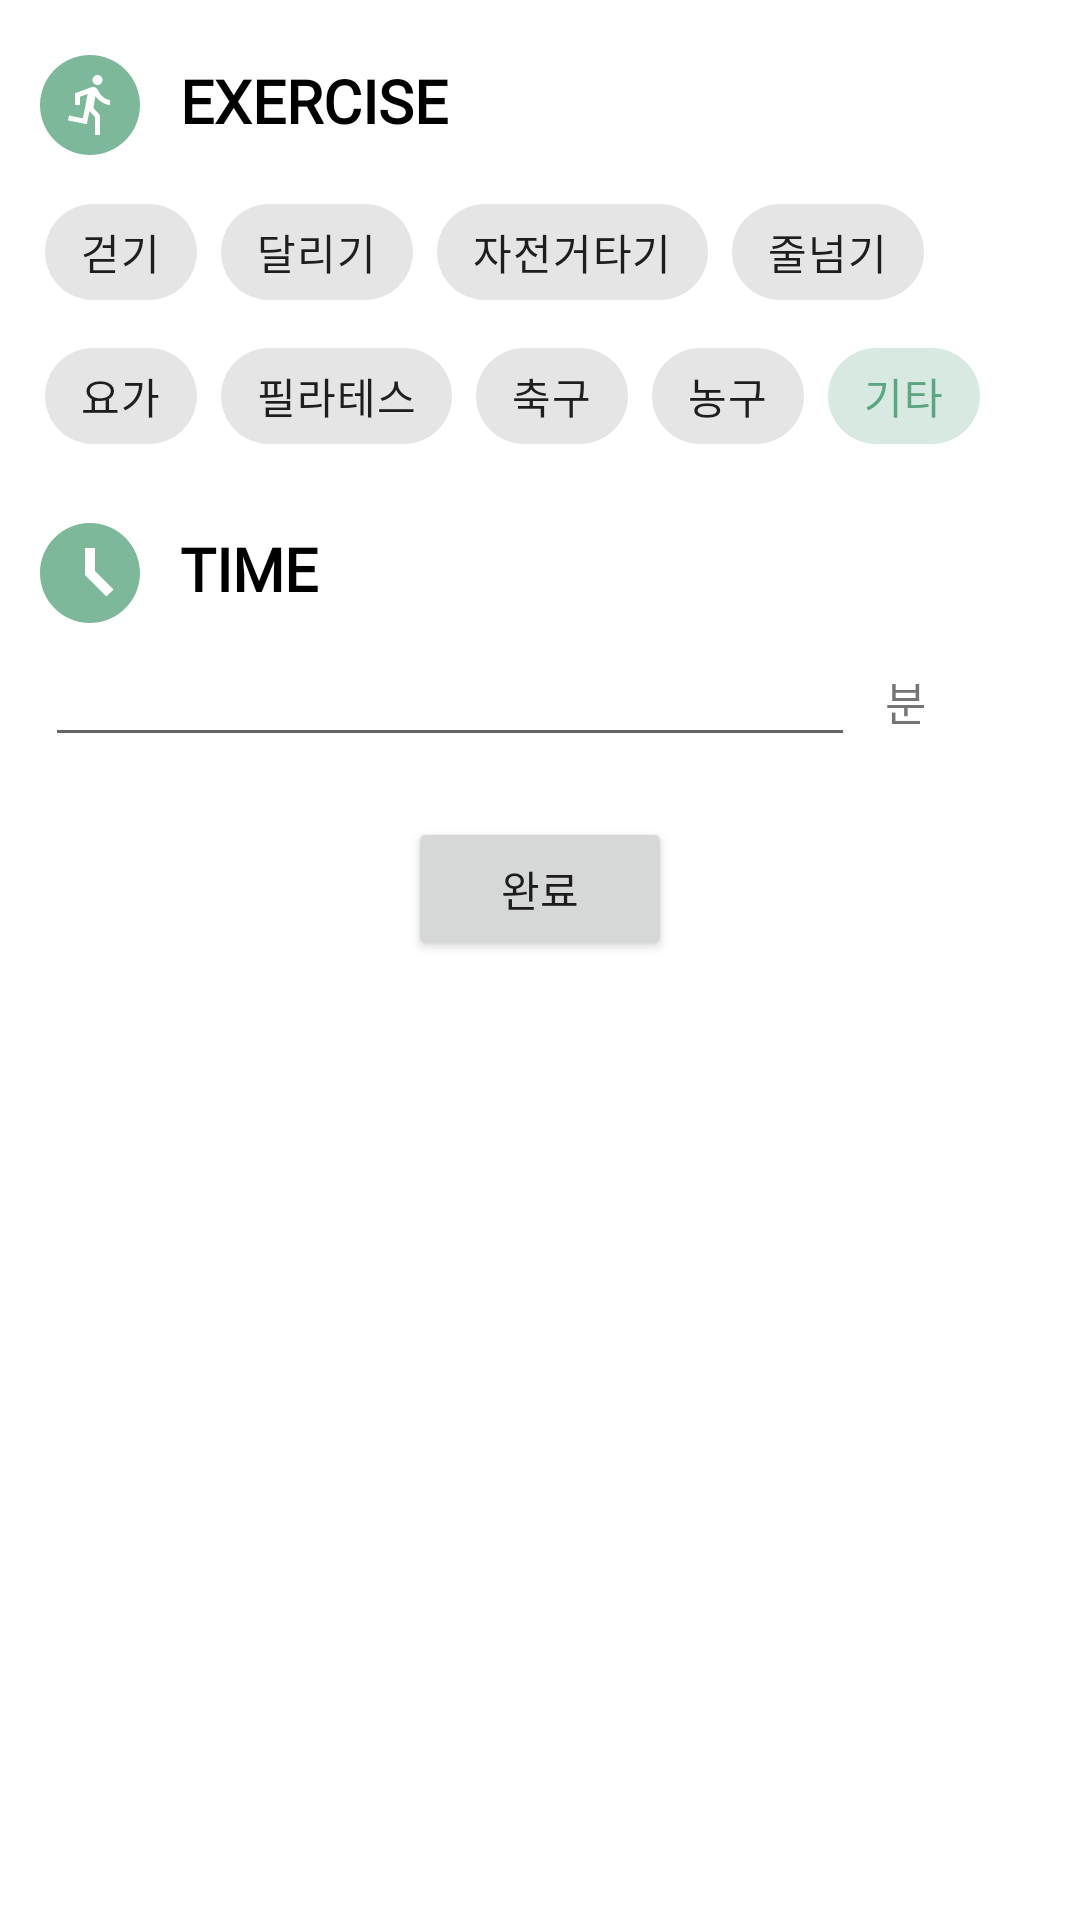

Where to tap for icons on this 1080×1920 app screen, as (x,y):
run: (90,105)
